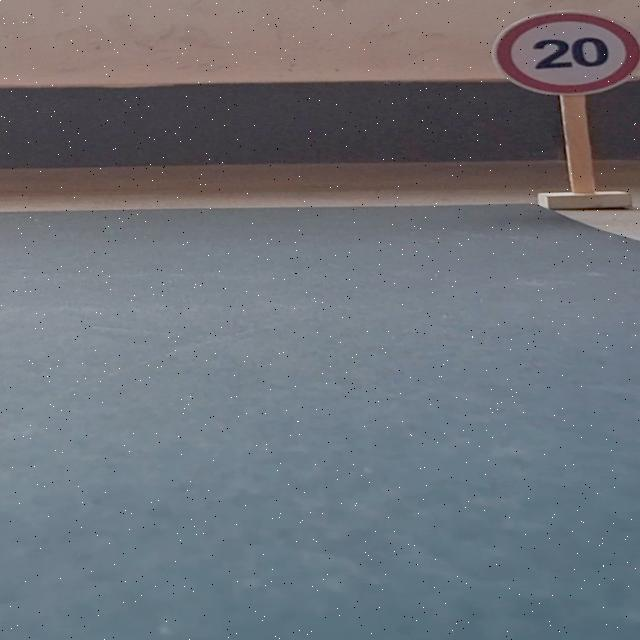Speed20: (483, 5, 640, 100)
